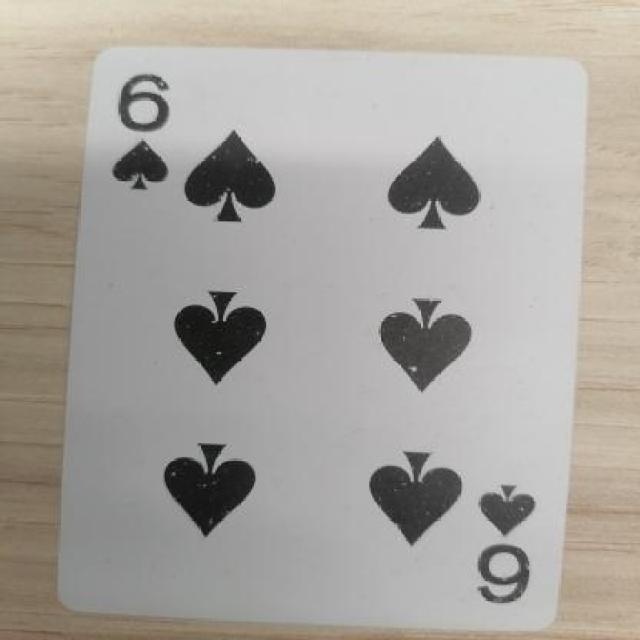6S: (84, 68, 221, 205), (457, 480, 575, 614)
